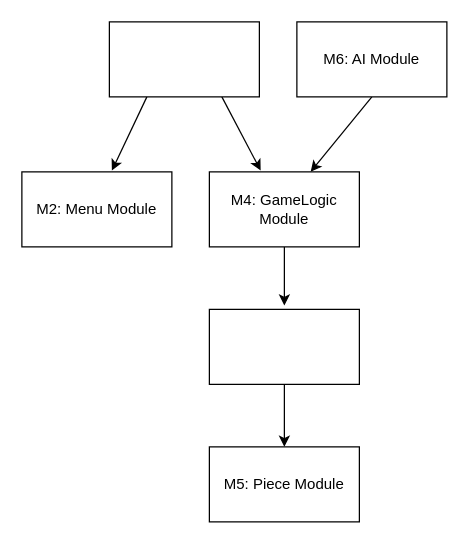
The diagram is 469 pixels wide and 544 high, and some of its shapes have lost their labels. Each missing label, with the centre of its shape:
"M1: GUI Module" belongs at pixel 183 59.
"M3: Board Module" belongs at pixel 283 346.
